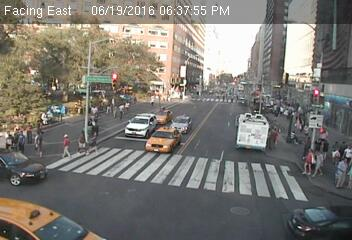neg: (45, 76, 60, 96), (193, 73, 205, 88), (54, 104, 64, 118)
pos: (299, 146, 321, 176), (331, 156, 351, 188), (84, 124, 104, 151), (57, 132, 77, 158), (311, 149, 330, 175), (73, 129, 92, 153), (30, 132, 46, 154), (3, 129, 16, 146), (17, 129, 29, 146), (115, 102, 127, 119), (146, 92, 158, 108), (89, 102, 100, 117), (344, 144, 351, 160), (340, 140, 348, 151), (334, 139, 342, 149)
